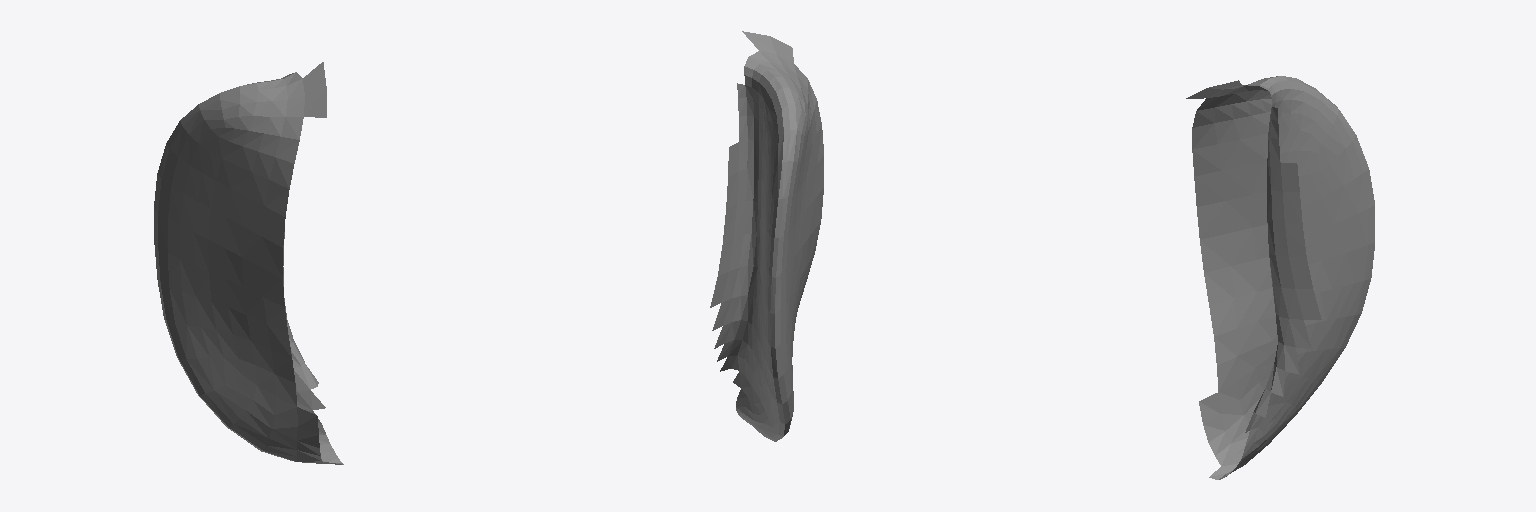
The model's file is psFAD.obj.
3 views of the same model, side by side, from view 1: azimuth 30°, elevation 25°; view 2: azimuth 150°, elevation 25°; view 3: azimuth 270°, elevation 25° (orthographic).
Parts seen in each view (by area): view 1: aletaIzq; view 2: aletaIzq; view 3: aletaIzq.
Part boxes in pixels (x1,y1,x2,y2): aletaIzq: (154,62,343,464); aletaIzq: (710,31,823,441); aletaIzq: (1186,76,1374,479).
Size of the model in its own units: 1.68 by 5.73 by 2.5.